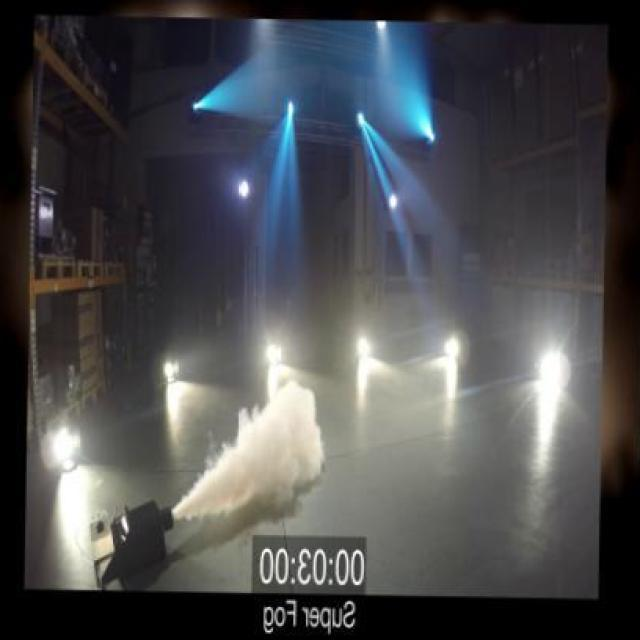fire: (185, 372, 326, 525)
